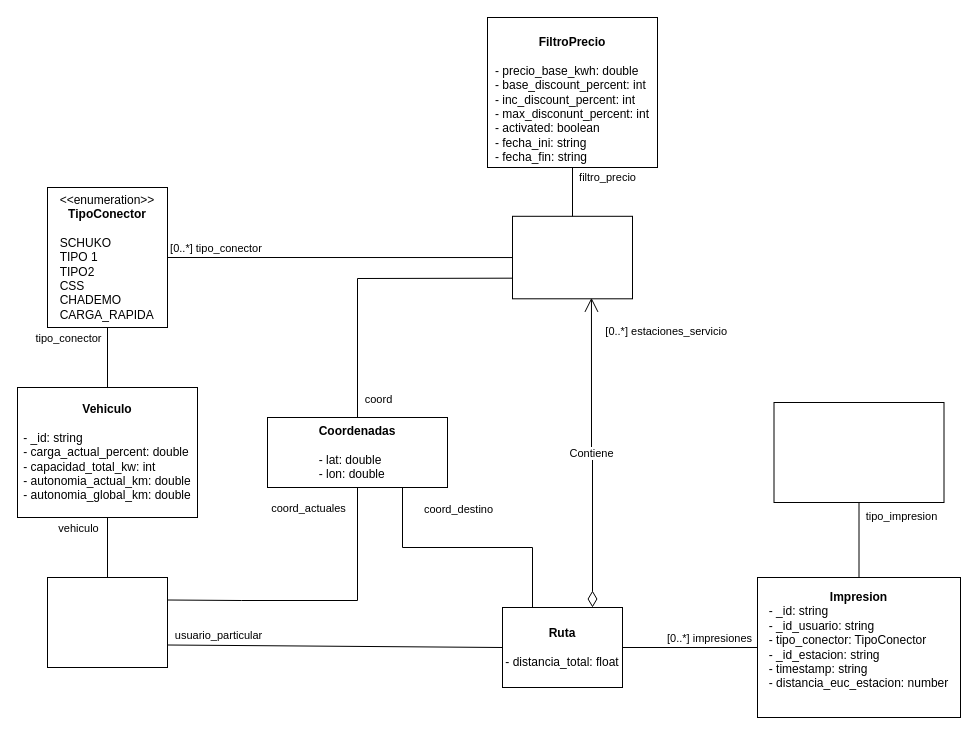
The diagram is 978 pixels wide and 735 high, and some of its shapes have lost their labels. Each missing label, with the centre of its shape:
<<enumeration>> TipoImpresion SATISFACTORIA NO_SATISFACTORIA NO_SAME_CONECTOR: the point at 858,452
EstacionServicio - _id: string: the point at 572,257
UsuarioParticular - _id: string: the point at 107,622
